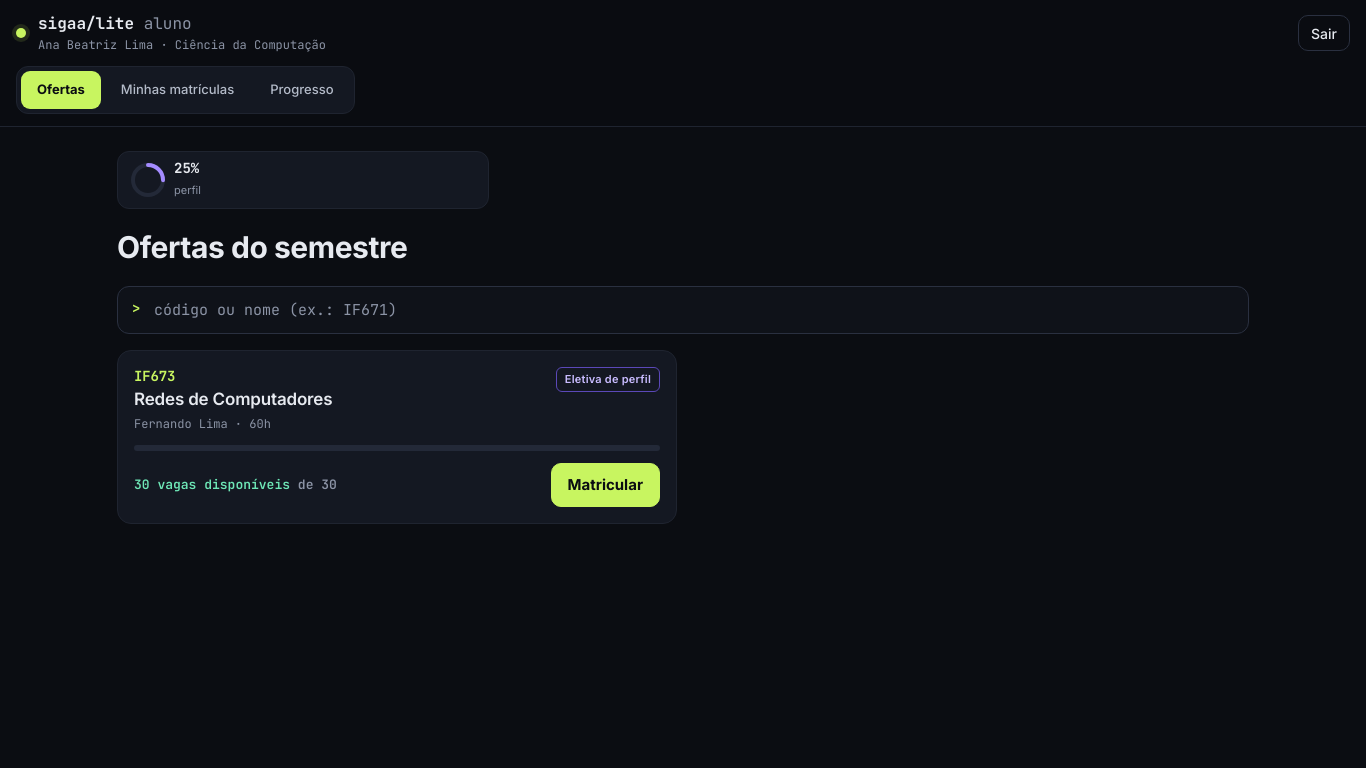
Test: confirmação de matrícula › confirma e matricula na turma escolhida
Click the button with aria-label "Matricular em IF673" at coordinates (605, 485), box [550,463,660,507]
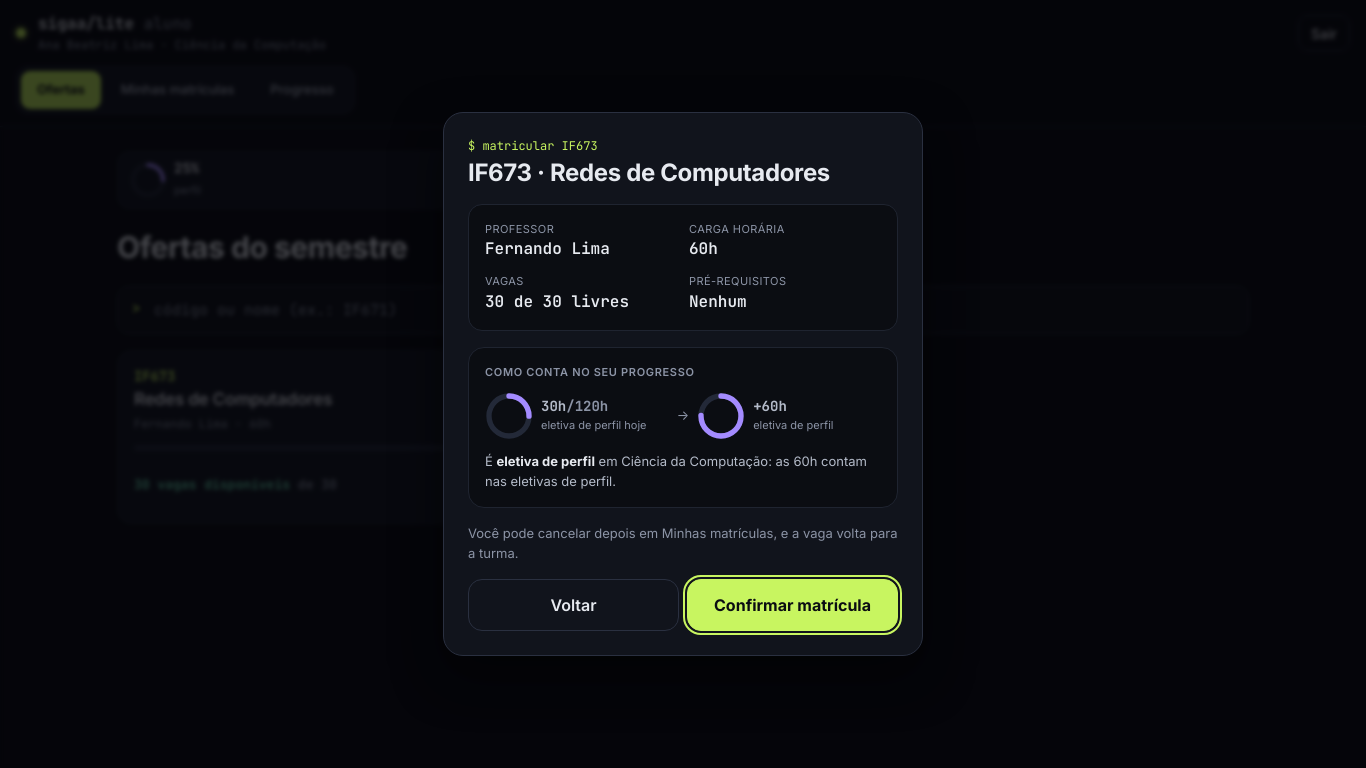
Click the button "Confirmar matrícula" at coordinates (792, 605), box [687,579,898,631]
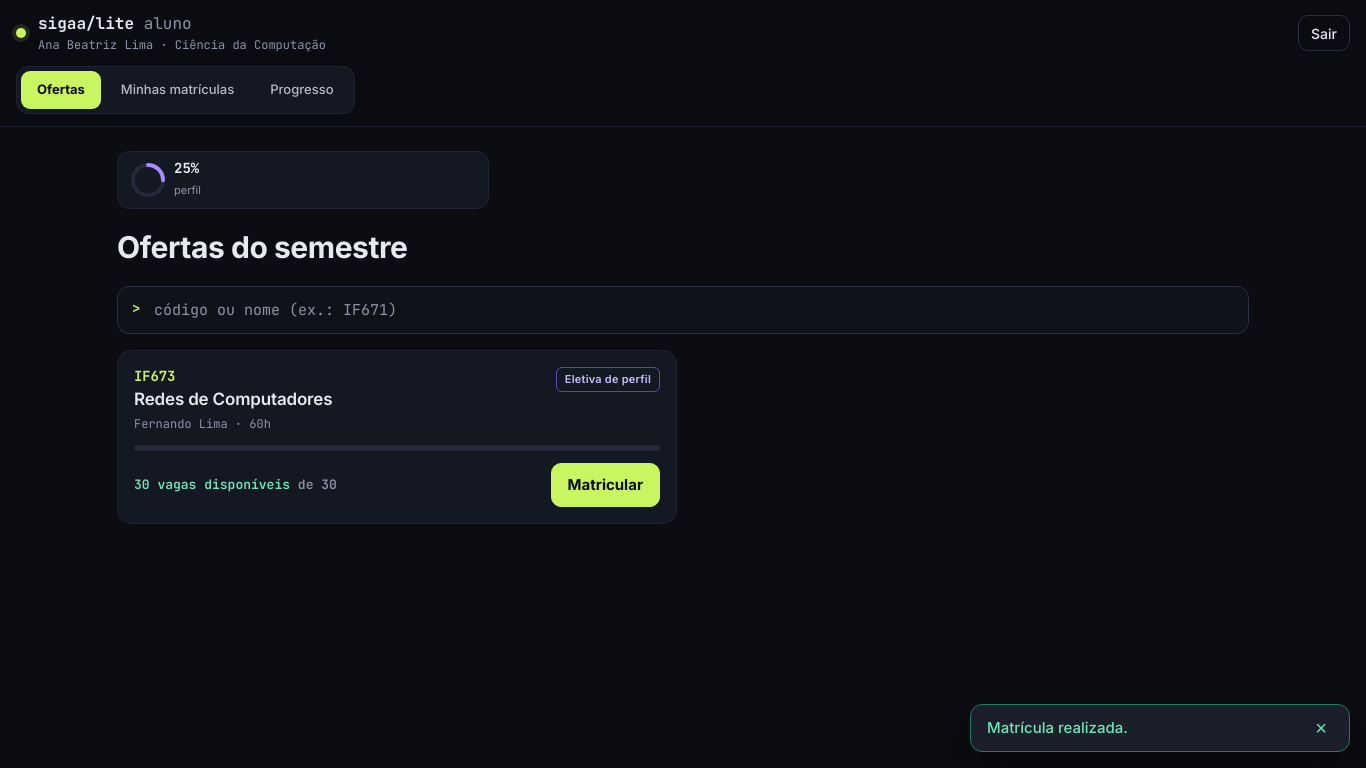
Check: the text "Matrícula realizada." is shown, box [987,716,1128,739]
